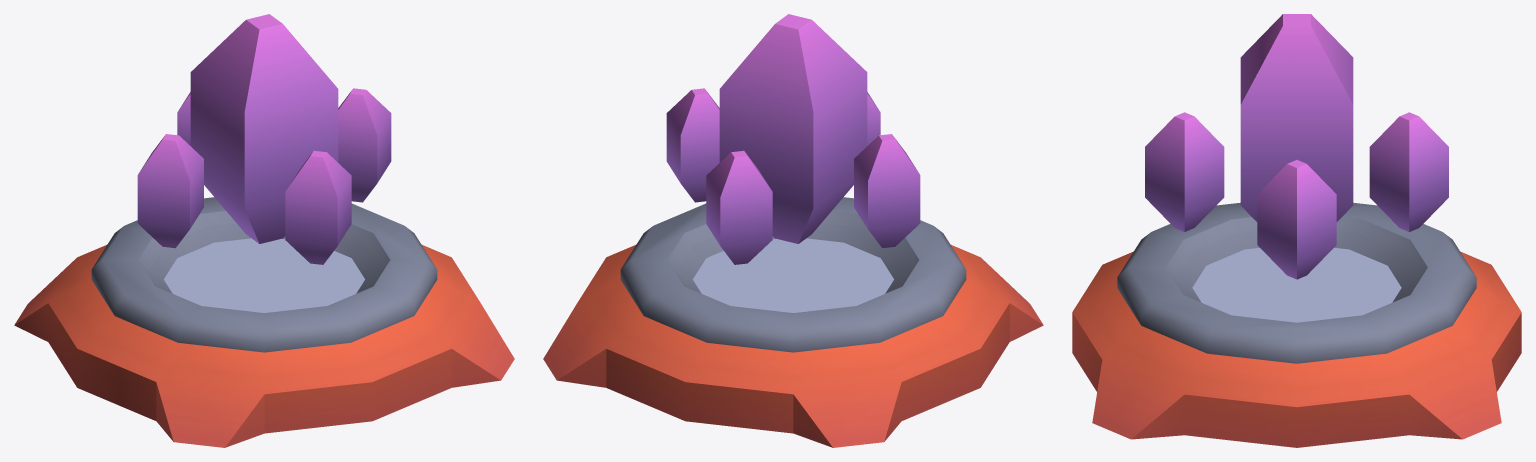
File: kenney-tower-defense-tower-round-crystals.glb
3 renders of one model, left to right at view 1: azimuth 30°, elevation 25°; view 2: azimuth 150°, elevation 25°; view 3: azimuth 270°, elevation 25°, orthographic. The views are drawn at different scales.
Parts seen in each view (by area): view 1: tower-round-crystals, crystal, crystal-small (×4); view 2: tower-round-crystals, crystal, crystal-small (×4); view 3: tower-round-crystals, crystal-small (×3), crystal.
Boxes of the visible parts, x1,y1,x2,y2 form: tower-round-crystals: (14,197,514,447); crystal: (190,14,338,243); crystal-small (×4): (137,88,391,264); tower-round-crystals: (543,197,1043,447); crystal: (719,14,867,243); crystal-small (×4): (666,88,920,264); tower-round-crystals: (1072,202,1521,447); crystal-small (×3): (1145,112,1448,279); crystal: (1240,14,1353,221).
Bounding box in the file's own units: 1 × 0.8175 × 1.
1 material, 1 textured.
